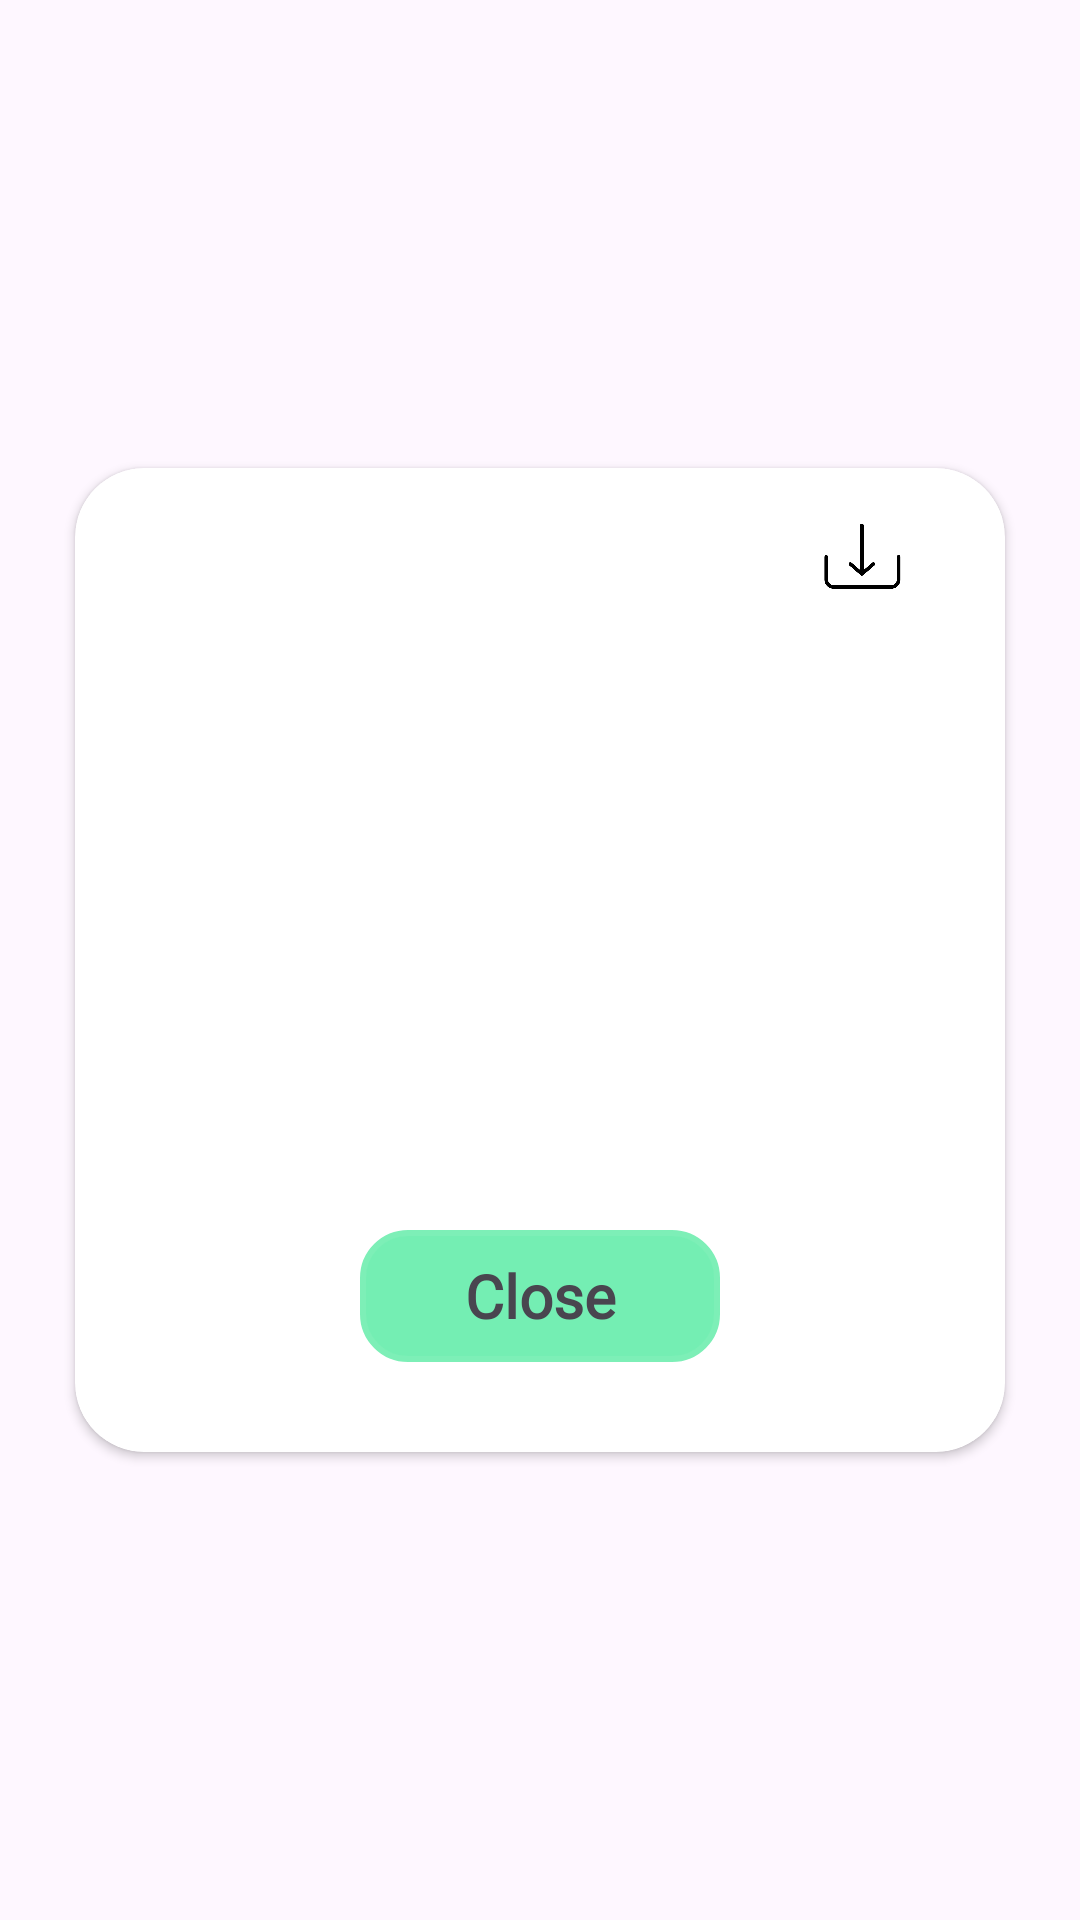

Icon click points for this 1080px x 1920px phone screenshot, format [x,y]:
downarrow: [862,556]
